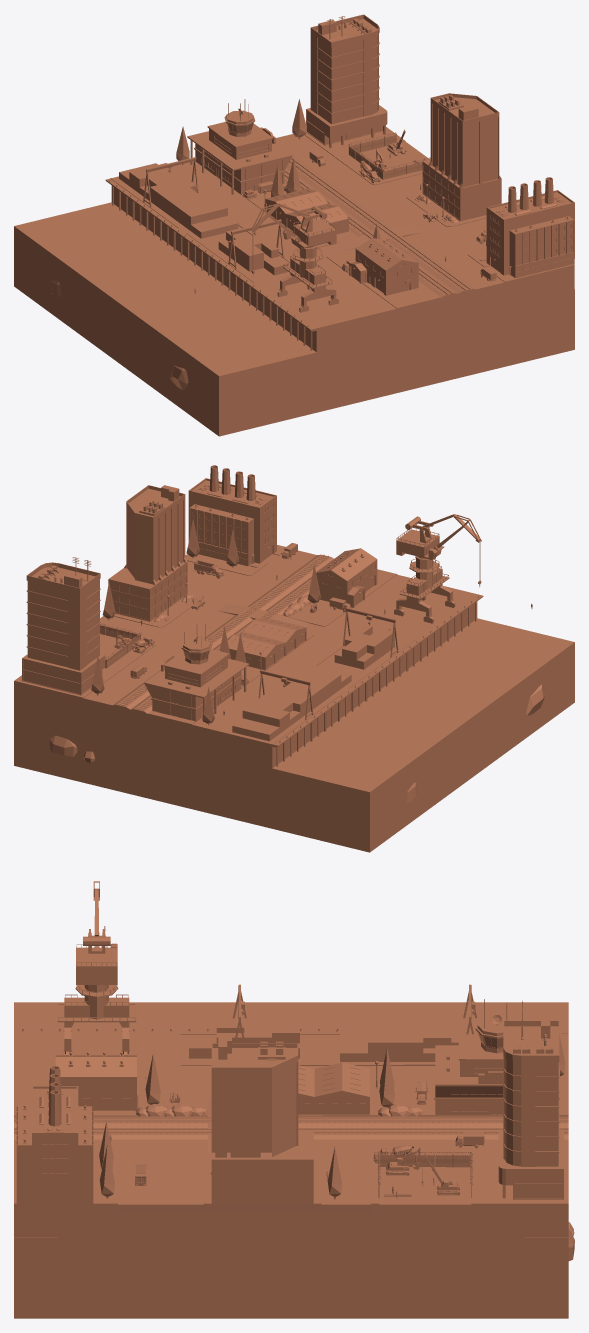
Rendered from polyperfect-industry-base.fbx.
3 views of the same model, one above another, from view 1: azimuth 30°, elevation 25°; view 2: azimuth 150°, elevation 25°; view 3: azimuth 270°, elevation 25° (orthographic). The views are drawn at different scales.
Visible parts, largest first — view 1: polyperfect-industry-base; view 2: polyperfect-industry-base; view 3: polyperfect-industry-base.
Part boxes in pixels (<box>): polyperfect-industry-base: <box>14,14,574,436</box>; polyperfect-industry-base: <box>14,465,574,852</box>; polyperfect-industry-base: <box>14,881,574,1318</box>.
Bounding box in the file's own units: 21.05 × 11.33 × 20.6.
